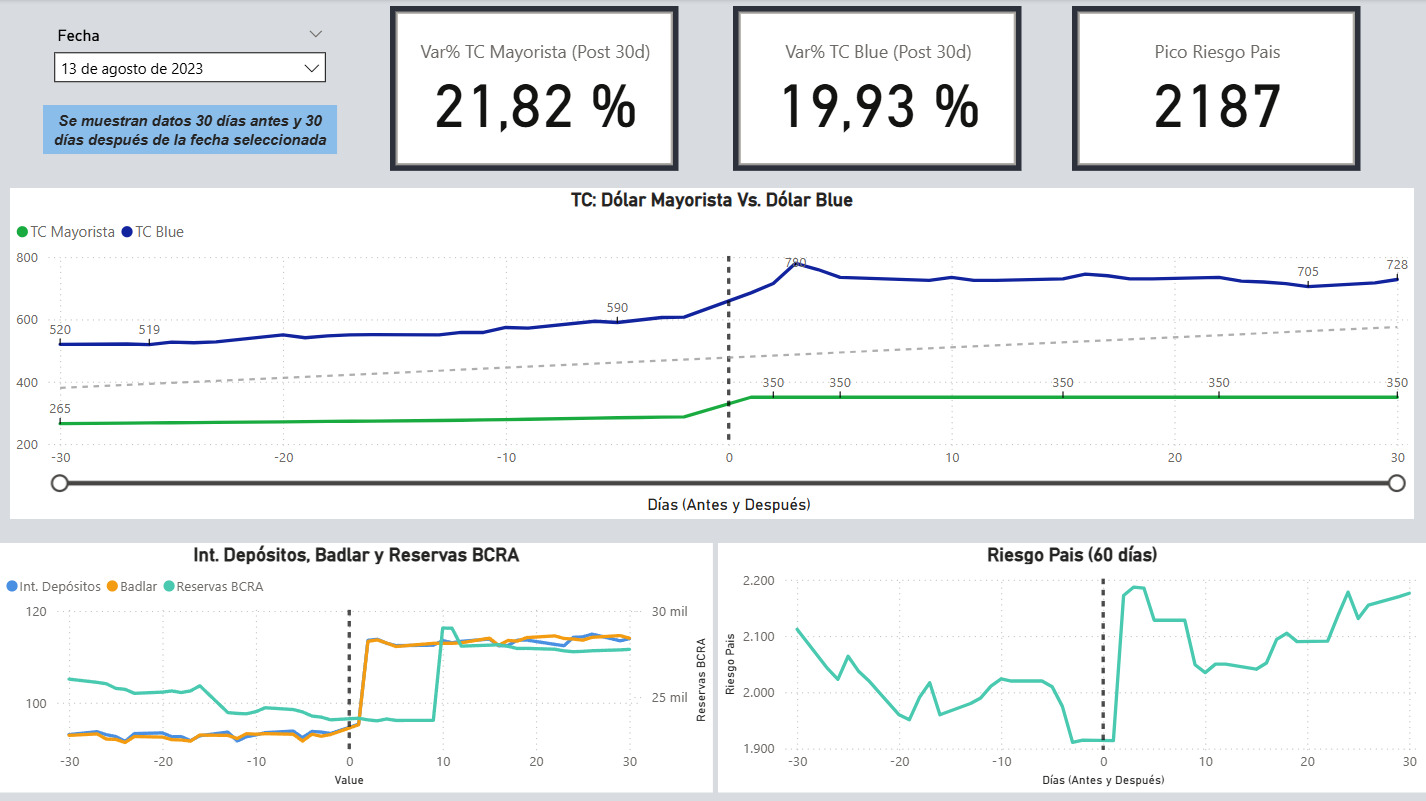

The page's visual inventory and layout, read from the dashboard file:
{"tool":"powerbi","page":{"name":"TC elecciones","canvas":[1280,720],"ordinal":0},"visuals":[{"type":"cardVisual","fields":{"Data":["Medidas Dax.Var% TC Mayorista (Post 30d)"]},"box":[350.1,6.3,259.5,148.1],"z":0},{"type":"lineChart","title":"TC: Dólar Mayorista Vs. Dólar Blue","fields":{"Category":["Dias Relativos.Value"],"Y":["Medidas Dax.TC Mayorista por Dia Relativo","Medidas Dax.TC Blue por Dia Relativo"]},"box":[9,169.7,1260.4,297.2],"z":1000},{"type":"lineChart","title":"Int. Depósitos, Badlar y Reservas BCRA","fields":{"Category":["Dias Relativos.Value"],"Y2":["Medidas Dax.Reservas por Dia Relativo"],"Y":["Medidas Dax.int depositos por Dia Relativo","Medidas Dax.Badlar Dia Relativo"]},"box":[0,488.4,640.1,223.5],"z":2000},{"type":"slicer","fields":{"Values":["Elecciones.Fecha"]},"box":[38.6,19.8,263.9,80.8],"z":3000},{"type":"lineChart","title":"Riesgo Pais (60 días)","fields":{"Category":["Dias Relativos.Value"],"Y":["Medidas Dax.Riesgo Pais por Dia Relativo"]},"box":[644.6,488.4,635.6,223.5],"z":4000},{"type":"cardVisual","fields":{"Data":["Medidas Dax.Var% TC Blue (Post 30d)"]},"box":[658.1,6.3,259.5,148.1],"z":5000},{"type":"cardVisual","title":"Pico Riesgo País","fields":{"Data":["Medidas Dax.Pico Riesgo Pais (Post 30d)"]},"box":[962.4,6.3,259.5,148.1],"z":6000},{"type":"textbox","box":[38.6,95.2,263.9,44],"z":8000}]}

Visuals, with their boxes in screenshot pixels (x1, y1, x2, y2), scaled from the page's 1280x720 canvas onto the 1426x801 screenshot:
cardVisual - Medidas Dax.Var% TC Mayorista (Post 30d): bbox(390, 7, 679, 172)
"TC: Dólar Mayorista Vs. Dólar Blue" lineChart: bbox(10, 189, 1414, 519)
"Int. Depósitos, Badlar y Reservas BCRA" lineChart: bbox(0, 543, 713, 792)
slicer - Elecciones.Fecha: bbox(43, 22, 337, 112)
"Riesgo Pais (60 días)" lineChart: bbox(718, 543, 1425, 792)
cardVisual - Medidas Dax.Var% TC Blue (Post 30d): bbox(733, 7, 1022, 172)
"Pico Riesgo País" cardVisual: bbox(1072, 7, 1361, 172)
textbox: bbox(43, 106, 337, 155)
